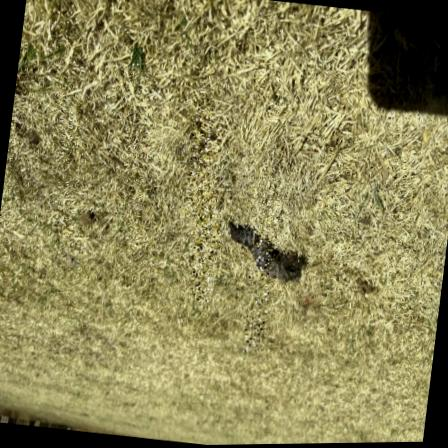dog-poop: (227, 220, 308, 290)
